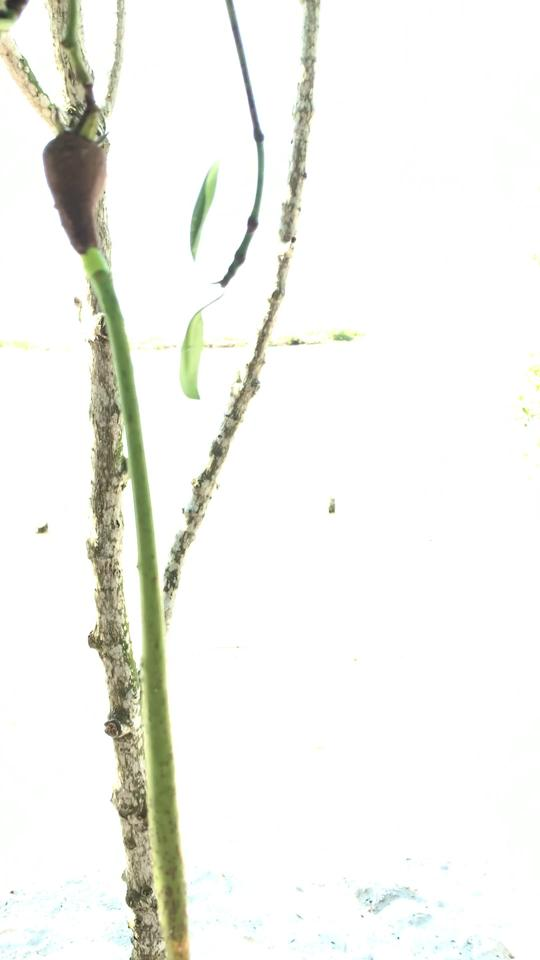setengah matang: (35, 96, 207, 953)
